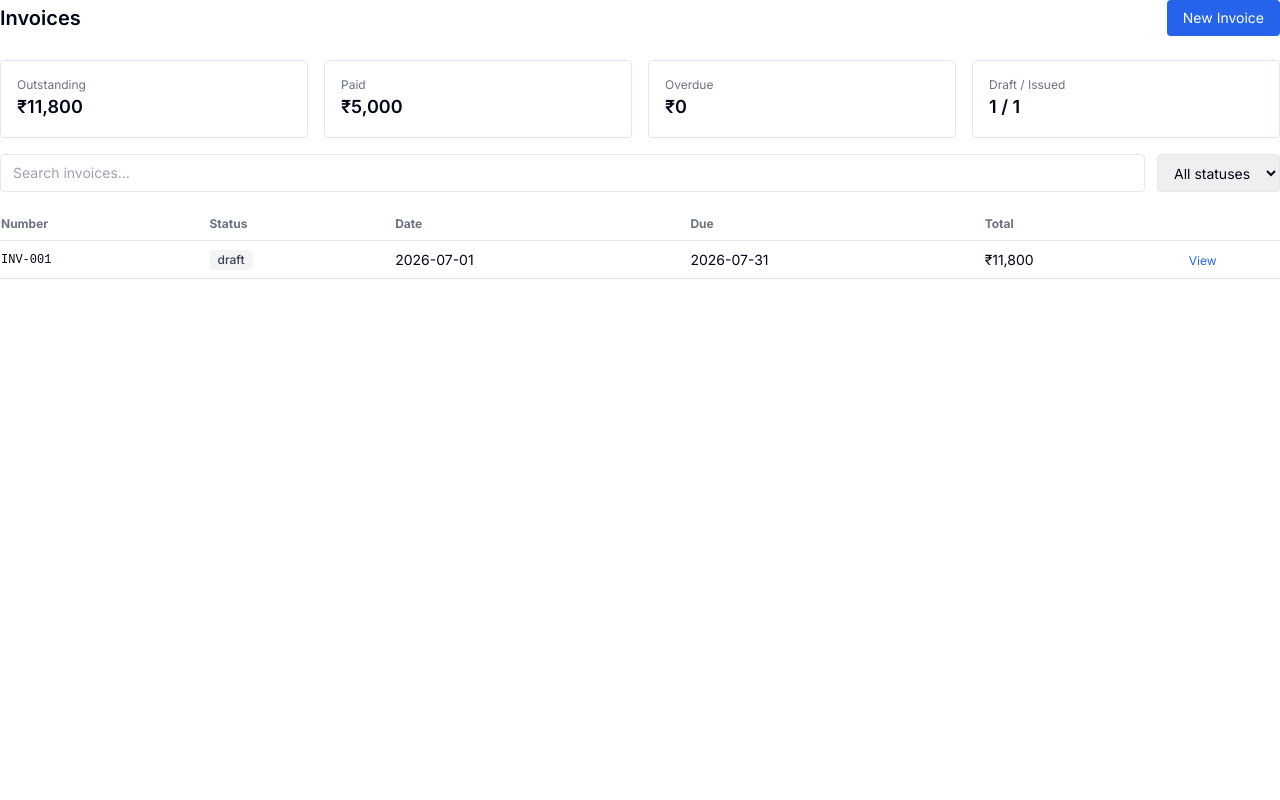
it: InvoiceCenter › clicking New Invoice opens dialog
The image size is (1280, 800).
Click the button with test id "invoice-create-btn" at point(1223, 18), box top-left (1167, 0), bottom-right (1279, 36)
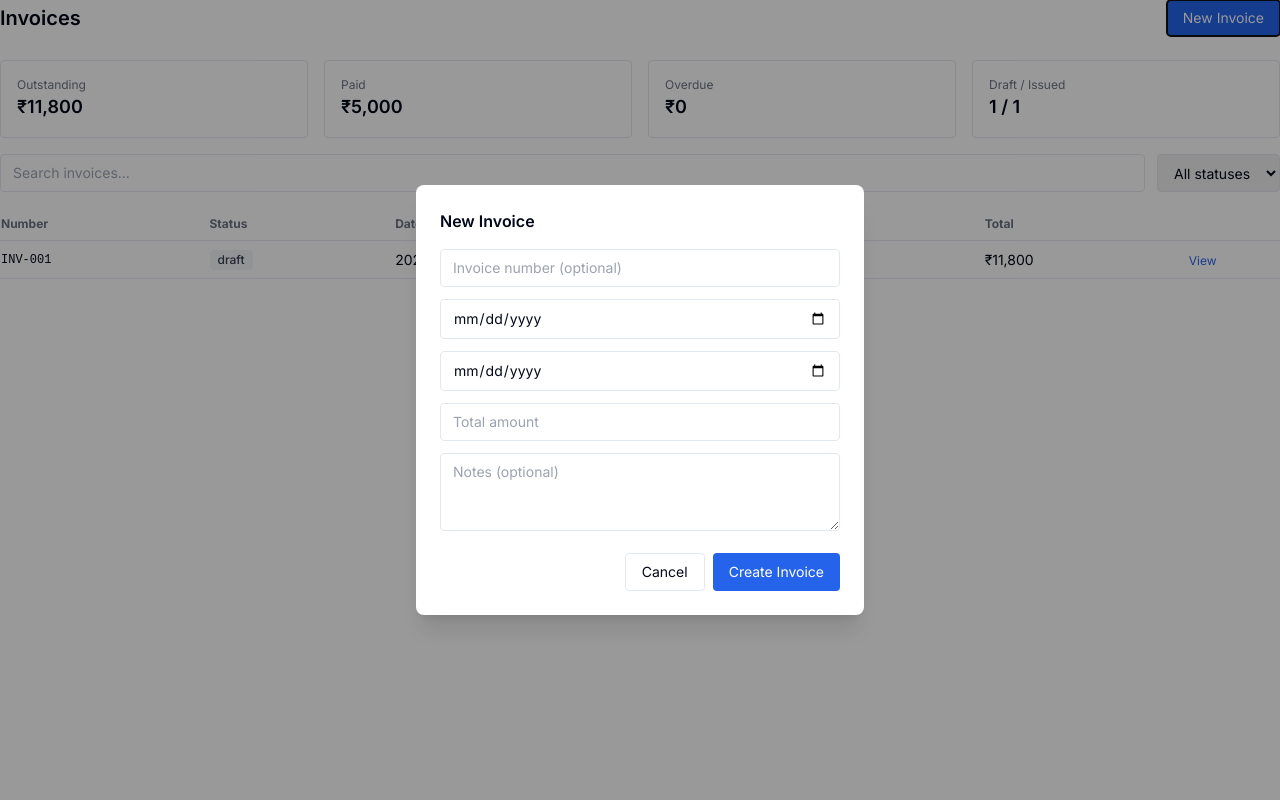
Result: the dialog with test id "invoice-dialog" is shown at top-left (440, 209), bottom-right (840, 591)
